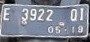plate: (1, 3, 89, 38)
